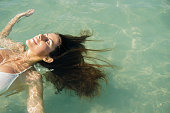deitado: (0, 24, 91, 113)
